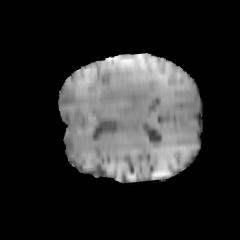glioma: (96, 63, 164, 114)
